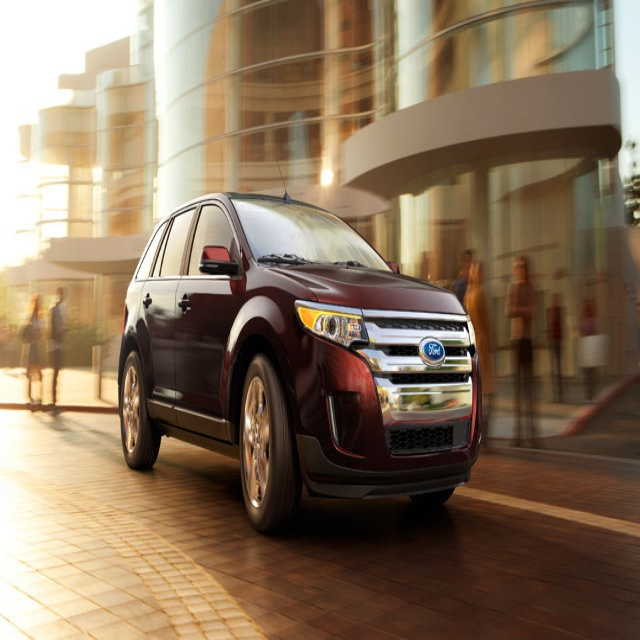Car: (118, 191, 484, 537)
